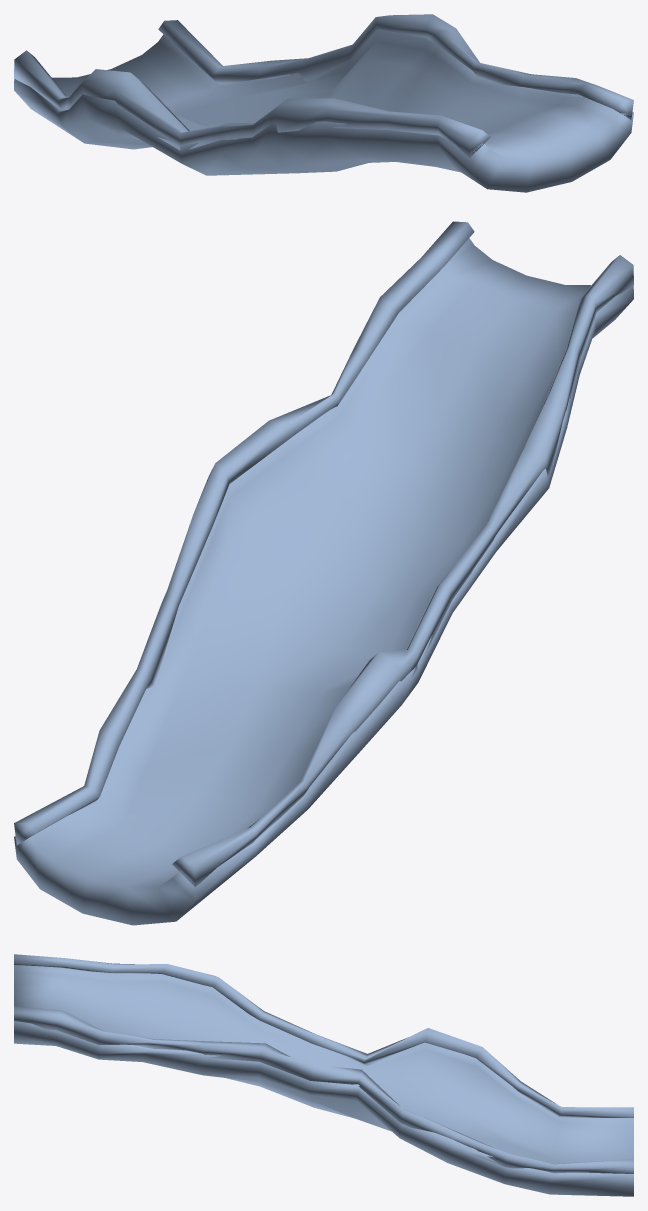
File: junRoadLongSlope10.fbx
The picture shows the model from 3 angles, top to bottom: view 1: azimuth 30°, elevation 25°; view 2: azimuth 150°, elevation 25°; view 3: azimuth 270°, elevation 25°; orthographic projection. The views are drawn at different scales.
Visible parts, largest first — view 1: roadLongSlope10_LOD0, roadLongSlope10_edge_LOD0; view 2: roadLongSlope10_LOD0, roadLongSlope10_edge_LOD0; view 3: roadLongSlope10_LOD0, roadLongSlope10_edge_LOD0.
Boxes of the visible parts, x1,y1,x2,y2 form: roadLongSlope10_LOD0: (14, 29, 633, 192); roadLongSlope10_edge_LOD0: (14, 14, 633, 157); roadLongSlope10_LOD0: (14, 238, 633, 925); roadLongSlope10_edge_LOD0: (14, 221, 633, 886); roadLongSlope10_LOD0: (14, 965, 633, 1196); roadLongSlope10_edge_LOD0: (14, 954, 633, 1173).
Size of the model in its own units: 1505 by 1696 by 4378.
